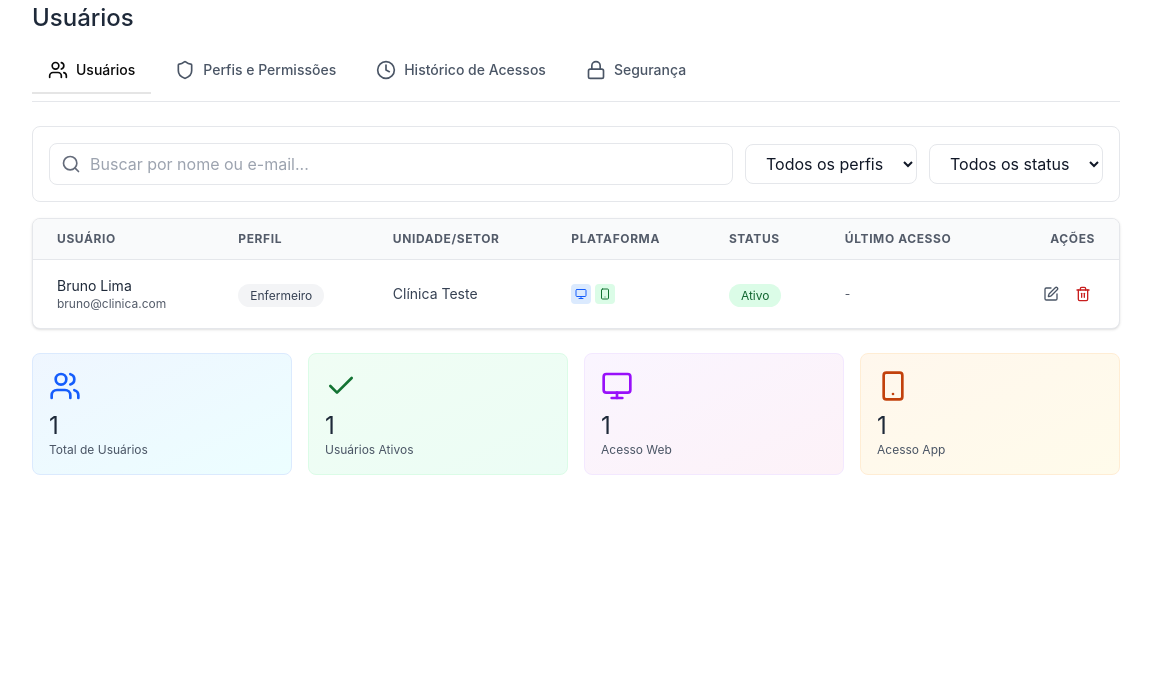
Test: Usuários: auditoria das mudanças › ligar uma permissão: salva e registra qual permissão mudou e de quê para quê
What coordinates should you click on to do the following:
click the button "Perfis e Permissões"
I would click on:
 (256, 71)
Its box is [159,48,352,94].
(page scrolled)
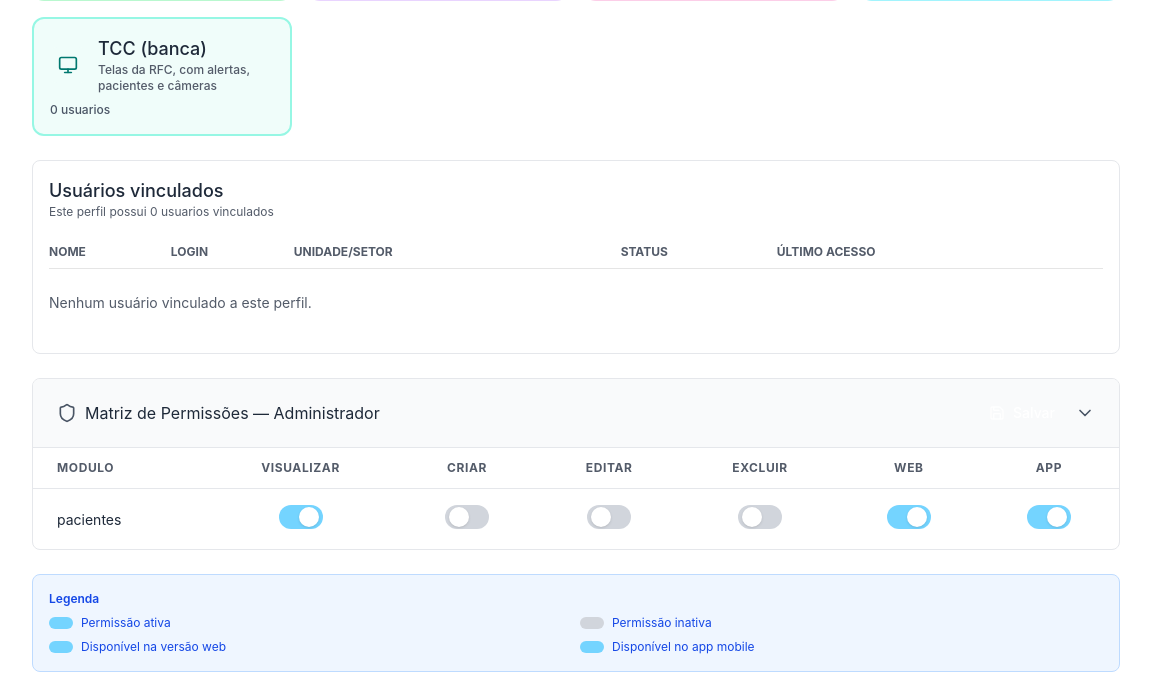
What coordinates should you click on to do the following:
click the button titled "Criar: negado"
I would click on:
 (467, 517)
Its box is [445,505,489,529].
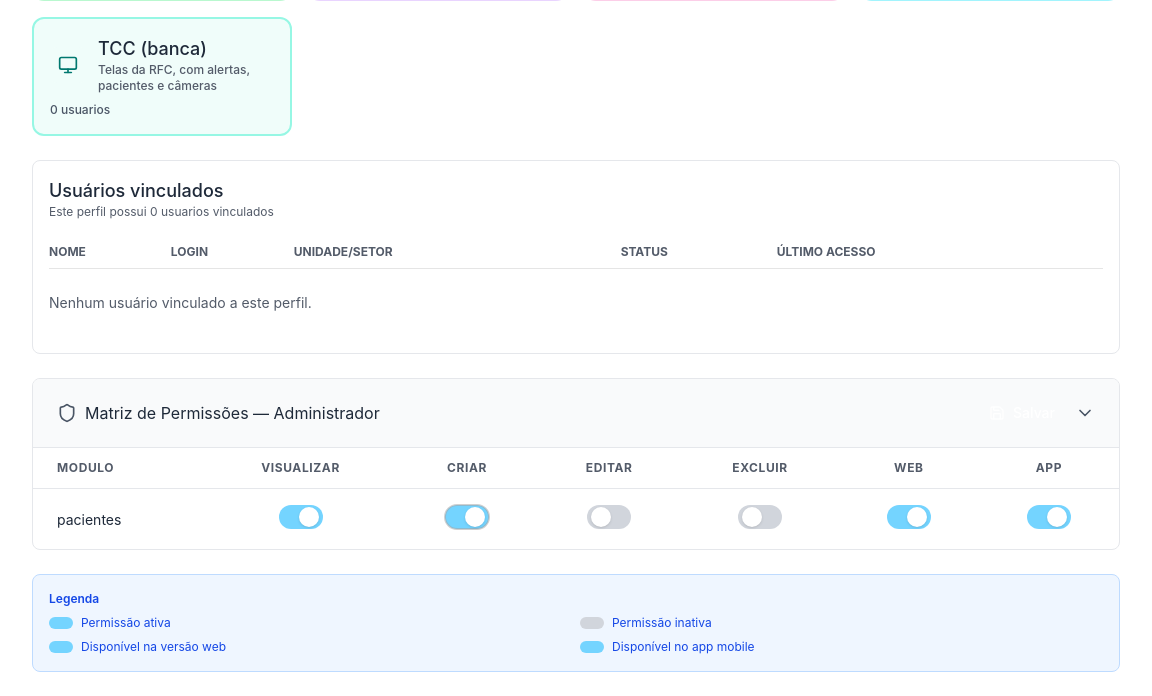
Expected: the button titled "Criar: permitido" is shown, [445,505,489,529]
